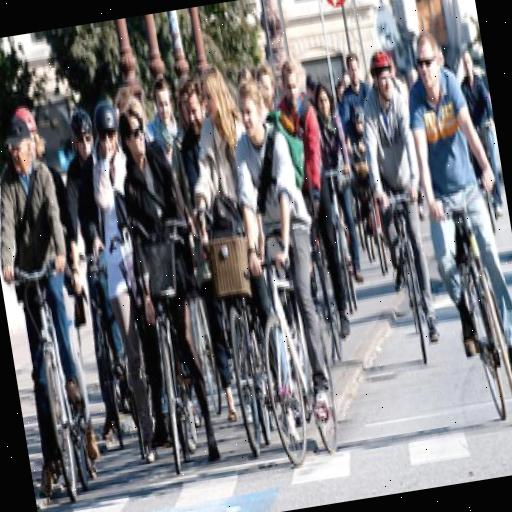no helmet: (386, 10, 512, 433), (216, 61, 348, 456)
